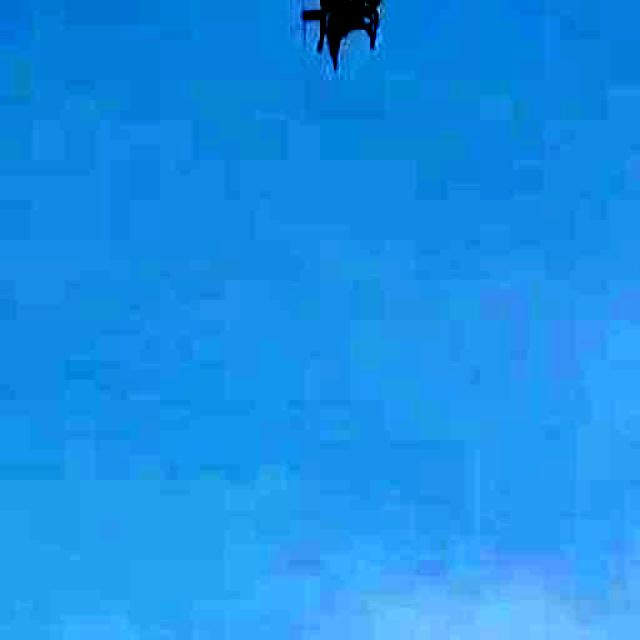drone: (248, 0, 461, 64)
